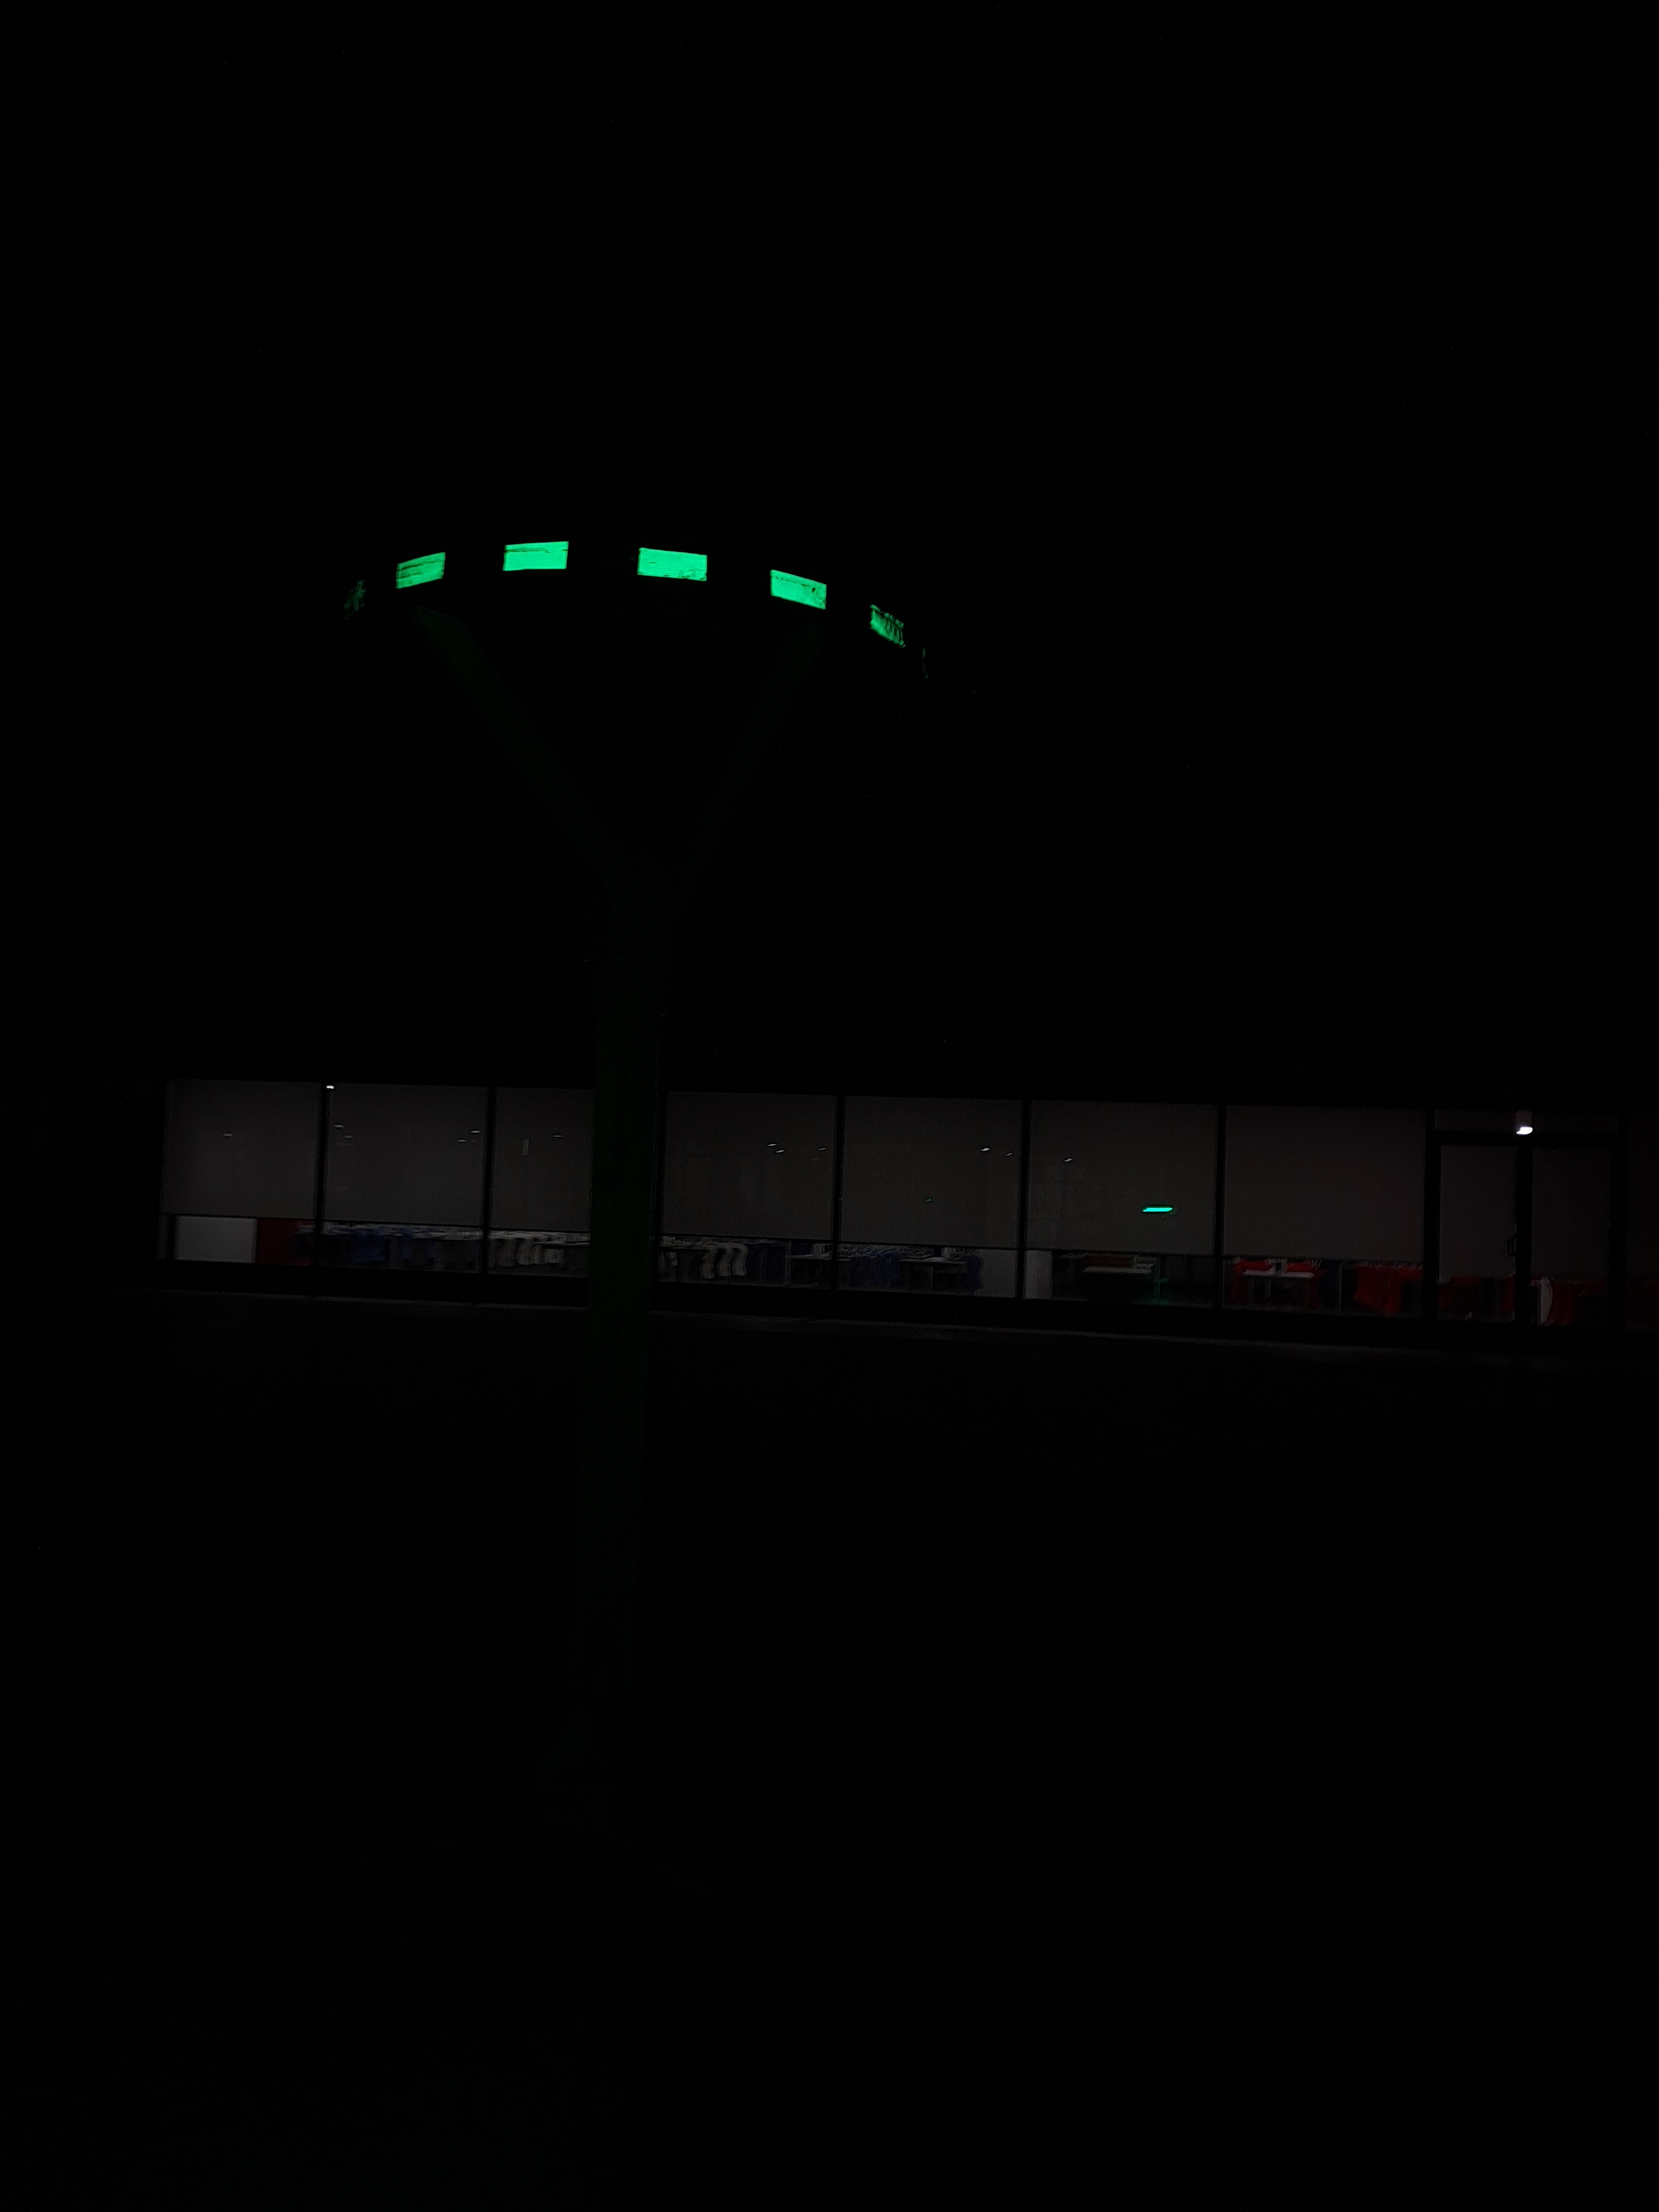hoop: (380, 531, 915, 655)
